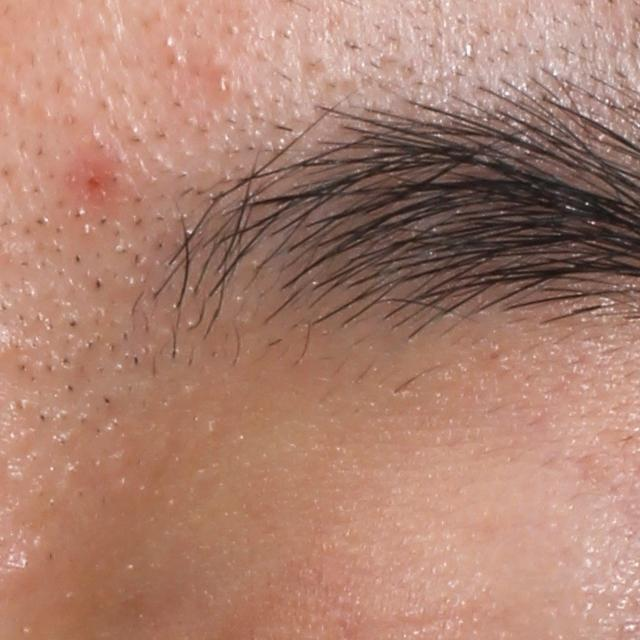comedo: (211, 71, 231, 100)
